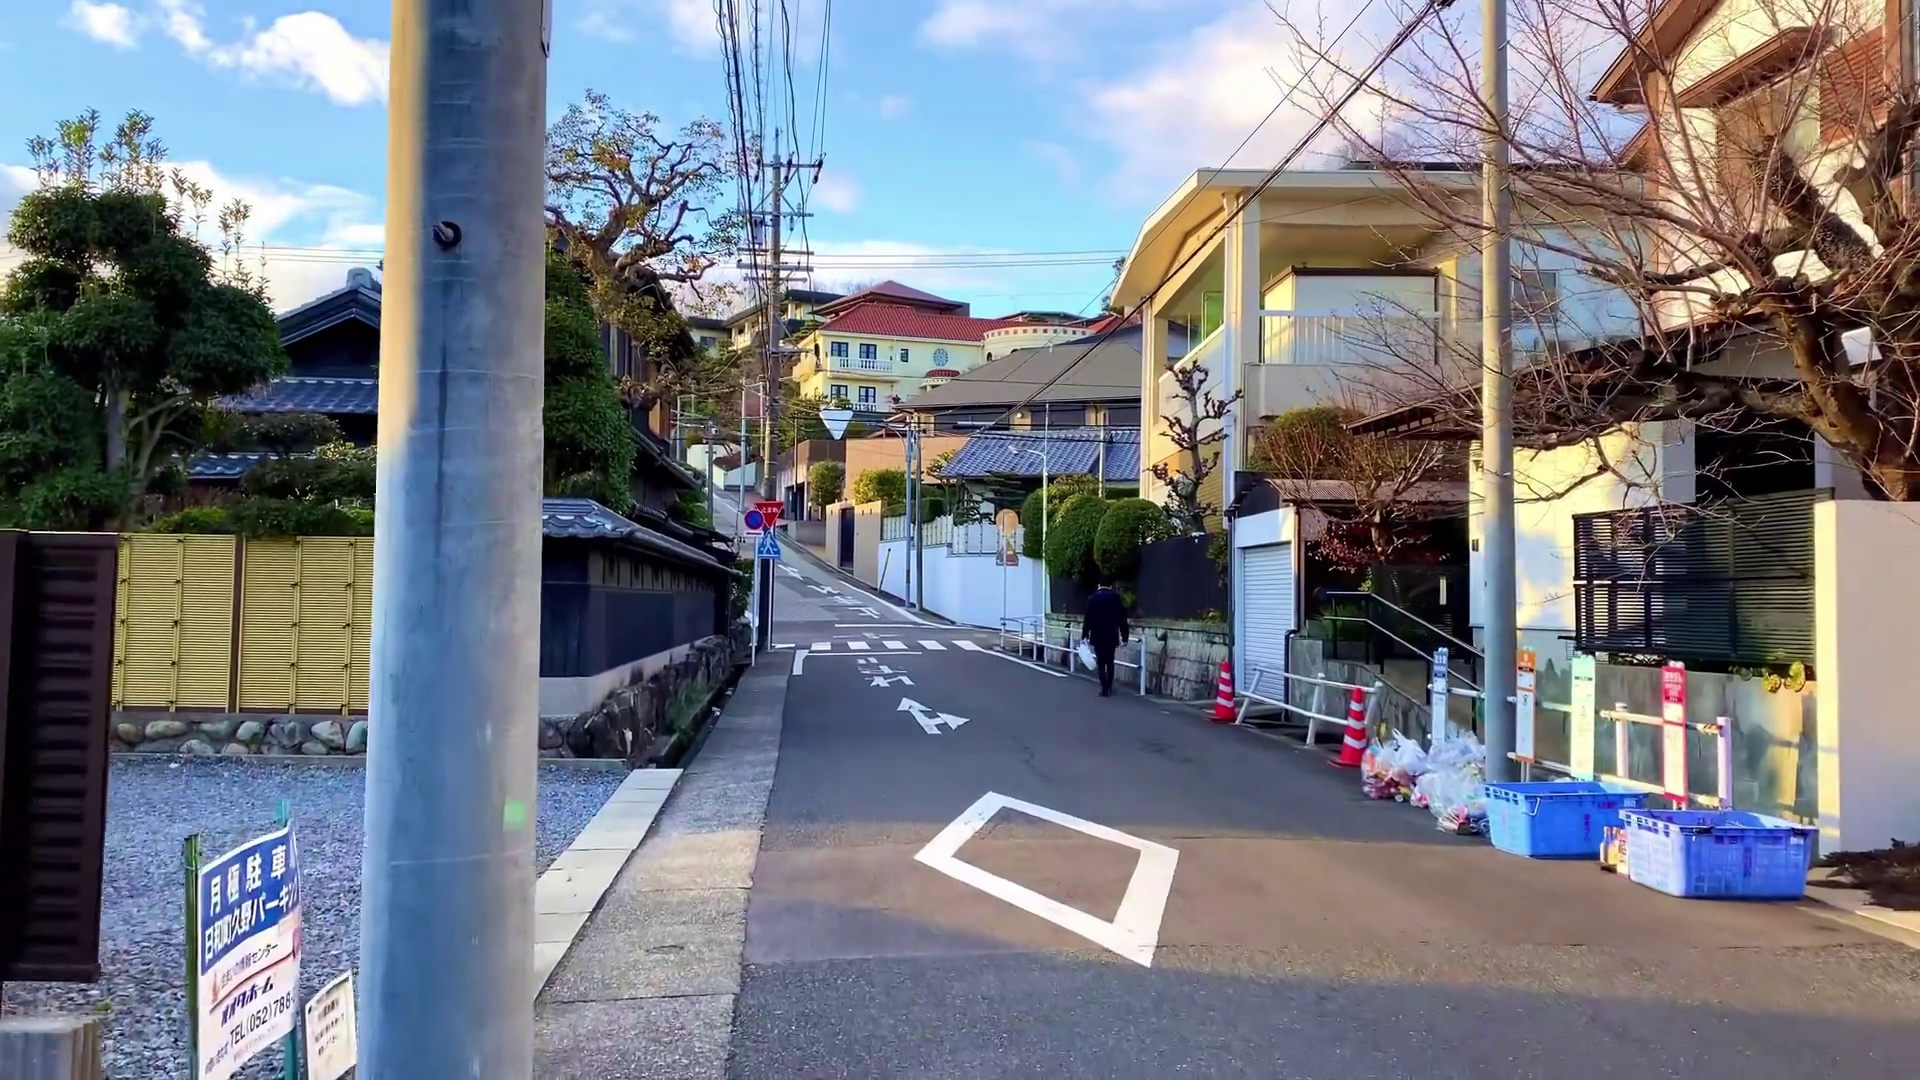person: (1073, 582, 1140, 699)
